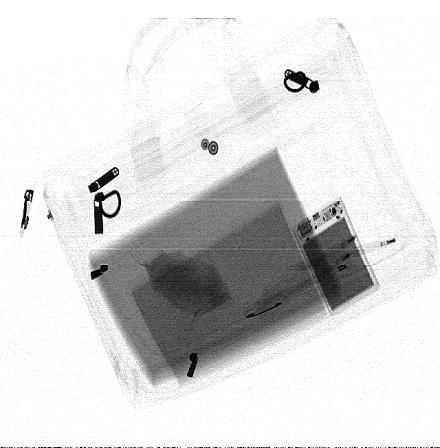Powerbank: (291, 195, 382, 318)
